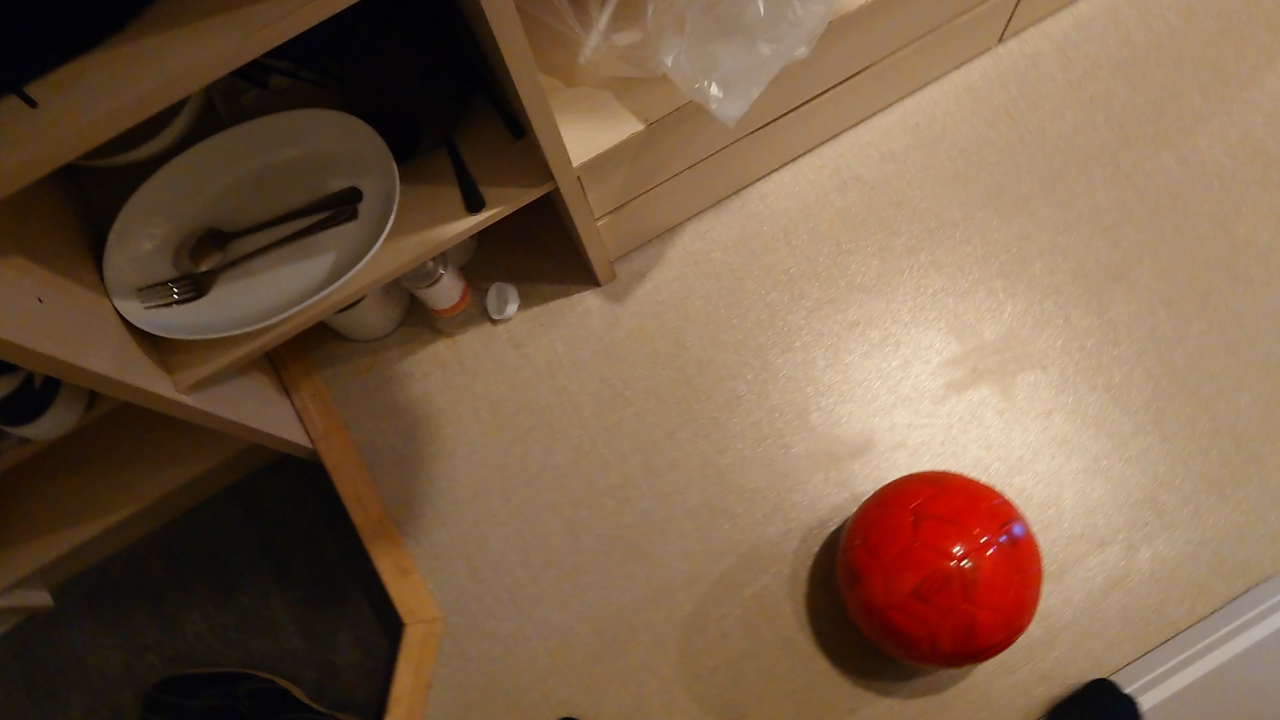red: (837, 467, 1044, 671)
